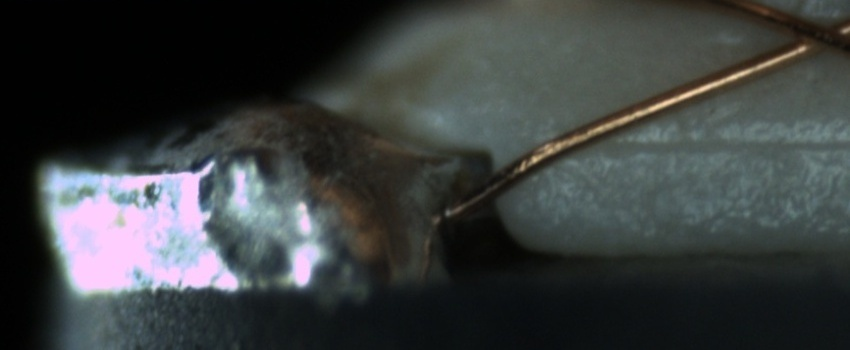CL: (768, 6, 848, 63)
DL: (576, 108, 846, 178)
